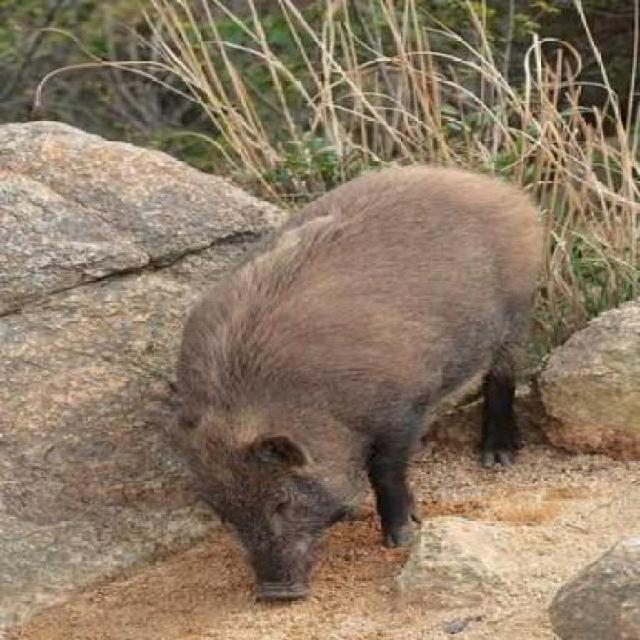pig: (137, 144, 611, 628)
